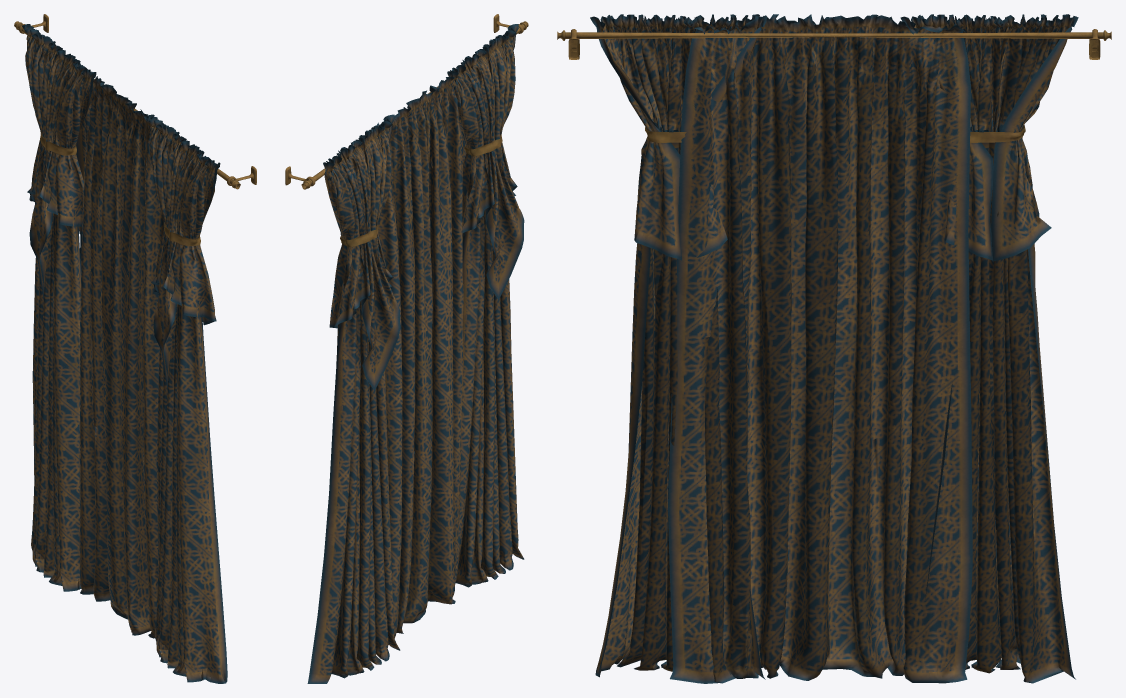
The model's file is SM_CurtainBig.fbx.
3 views of the same model, side by side, from view 1: azimuth 30°, elevation 25°; view 2: azimuth 150°, elevation 25°; view 3: azimuth 270°, elevation 25° (orthographic). The views are drawn at different scales.
Parts seen in each view (by area): view 1: SM_CurtainBig_LOD0; view 2: SM_CurtainBig_LOD0; view 3: SM_CurtainBig_LOD0.
Part boxes in pixels (bbox=[...]): SM_CurtainBig_LOD0: bbox=[14, 14, 256, 683]; SM_CurtainBig_LOD0: bbox=[285, 14, 528, 683]; SM_CurtainBig_LOD0: bbox=[557, 14, 1111, 683].
Size of the model in its own units: 67.72 by 437 by 570.
1 material, 1 textured.
